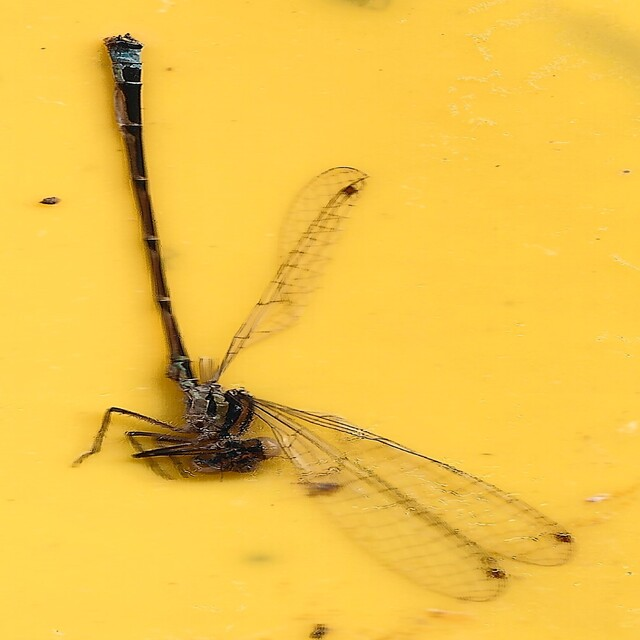Odonata: (68, 35, 572, 605)
